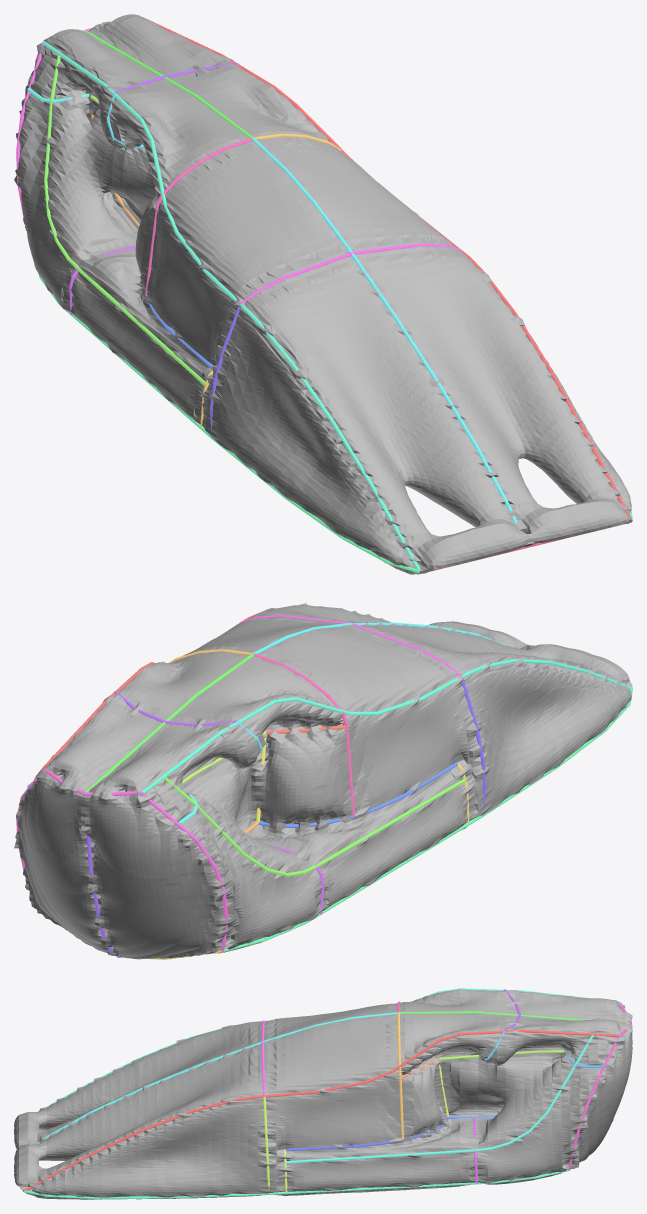
File: t2f_hand_vacuum.gltf
The picture shows the model from 3 angles, top to bottom: view 1: azimuth 30°, elevation 25°; view 2: azimuth 150°, elevation 25°; view 3: azimuth 270°, elevation 25°; orthographic projection. The views are drawn at different scales.
Size of the model in its own units: 0.3292 by 0.2616 by 0.9312.
